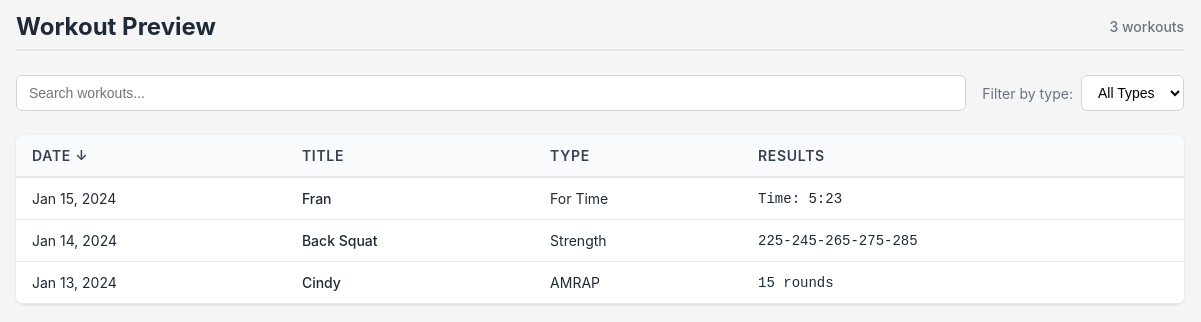
Test: ExportPreview › Sorting › should toggle sort direction on repeated clicks
# First click - ascending
Click the column heading "Title" at {"x": 323, "y": 156}, box [286,135,534,177]
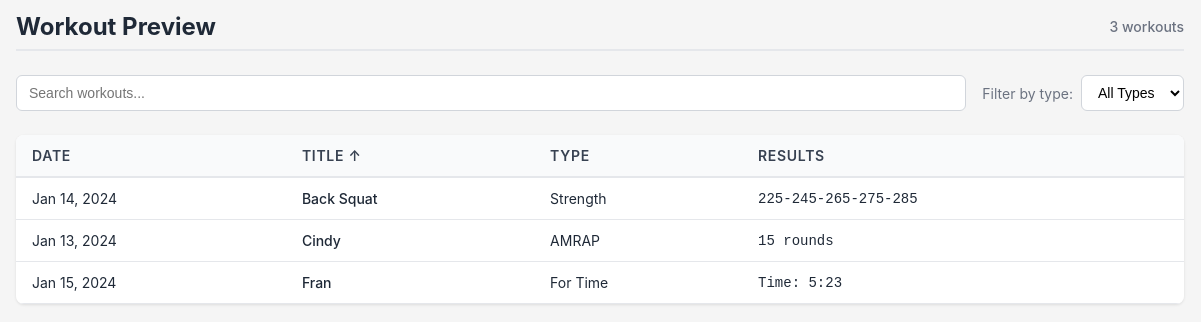
Expected: the text "Back Squat" is shown, [286,177,534,220]
# Second click - descending
Click the column heading "Title ↑" at {"x": 325, "y": 156}, box [286,135,534,177]
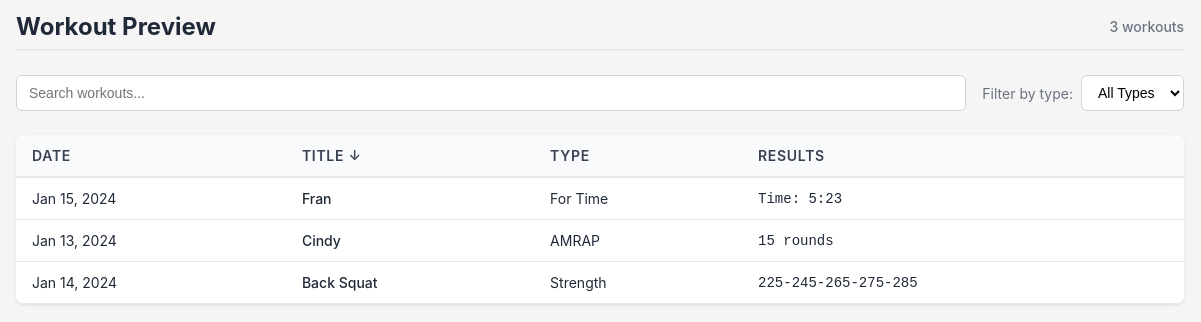
Expected: the text "Fran" is shown, [286,177,534,220]
